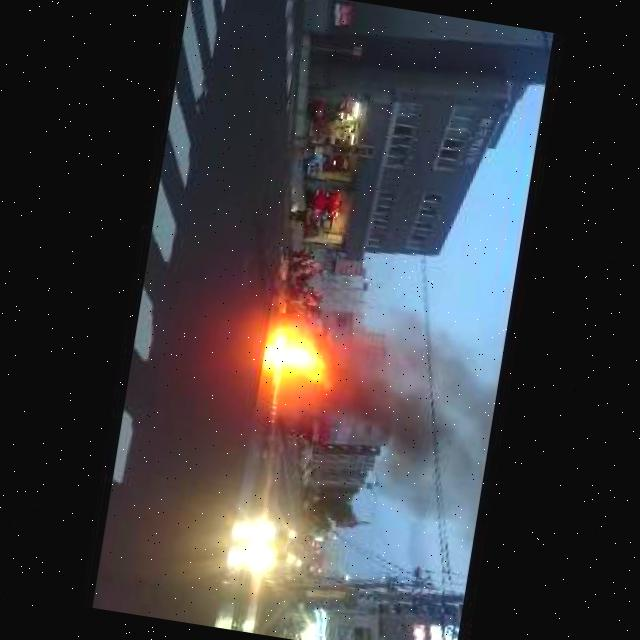fire: (266, 319, 338, 425)
